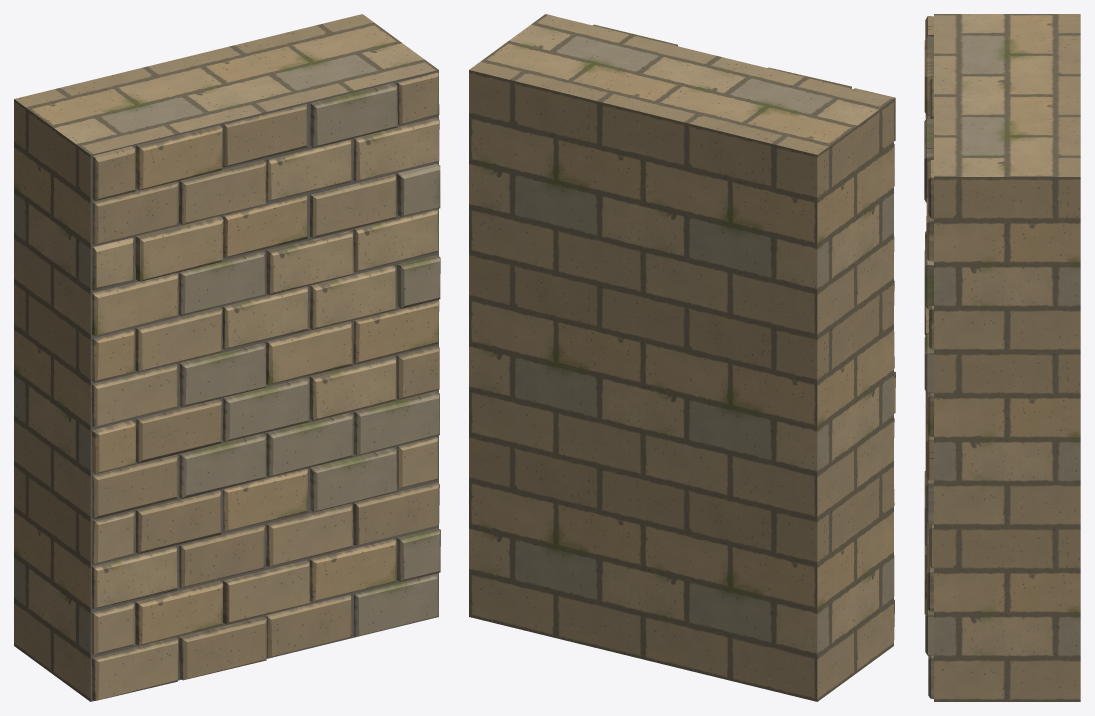
The model's file is Wall_Segment.glb.
3 views of the same model, side by side, from view 1: azimuth 30°, elevation 25°; view 2: azimuth 150°, elevation 25°; view 3: azimuth 270°, elevation 25° (orthographic). The views are drawn at different scales.
Parts seen in each view (by area): view 1: Wall_Segment; view 2: Wall_Segment; view 3: Wall_Segment.
Part boxes in pixels (x1,y1,x2,y2): Wall_Segment: [14, 14, 440, 701]; Wall_Segment: [469, 14, 895, 701]; Wall_Segment: [924, 14, 1080, 701].
Size of the model in its own units: 2 by 3 by 0.8097.
2 materials, 1 textured.
